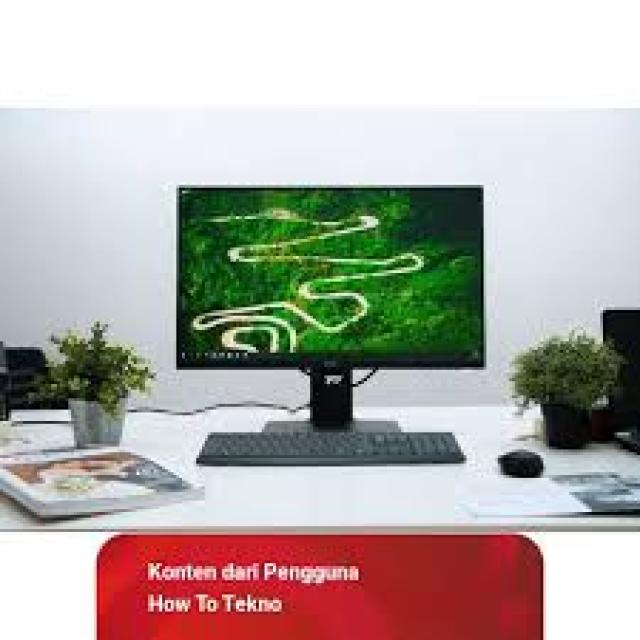monitor: (171, 175, 489, 439)
